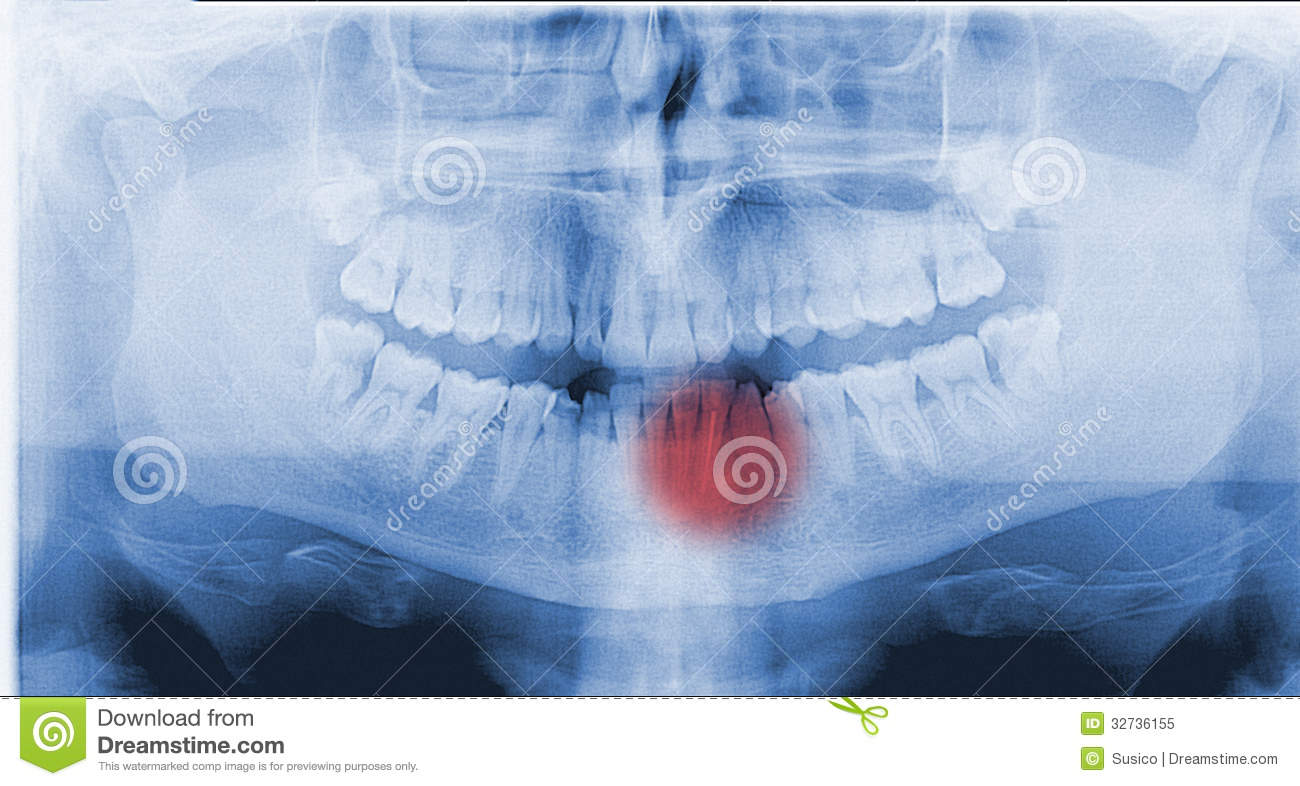canine: (722, 235, 776, 364), (727, 369, 776, 508), (533, 214, 576, 364), (577, 371, 614, 528)
incisor: (647, 242, 700, 384), (602, 243, 652, 379), (686, 237, 735, 366), (698, 366, 735, 532), (607, 377, 645, 518), (640, 372, 674, 515), (670, 369, 702, 520), (573, 250, 607, 365)
molar: (833, 354, 943, 491), (423, 346, 514, 510), (338, 336, 446, 465), (904, 331, 1021, 449), (846, 210, 939, 335), (973, 301, 1077, 412), (925, 200, 1017, 314), (945, 134, 1047, 235), (297, 313, 389, 414), (391, 208, 458, 343), (333, 200, 411, 314), (302, 165, 389, 247)
premolar: (491, 373, 557, 540), (783, 359, 859, 499), (750, 232, 822, 350), (801, 225, 867, 344), (450, 208, 504, 351), (489, 225, 543, 357), (761, 370, 812, 506), (539, 372, 581, 528)
